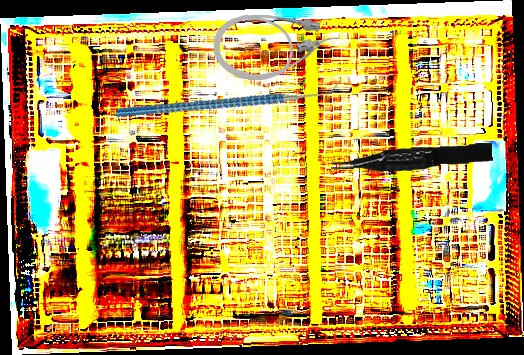Cannula: (213, 13, 340, 82)
Chopper: (115, 27, 343, 168)
Tissue Forceps: (330, 142, 493, 174)
